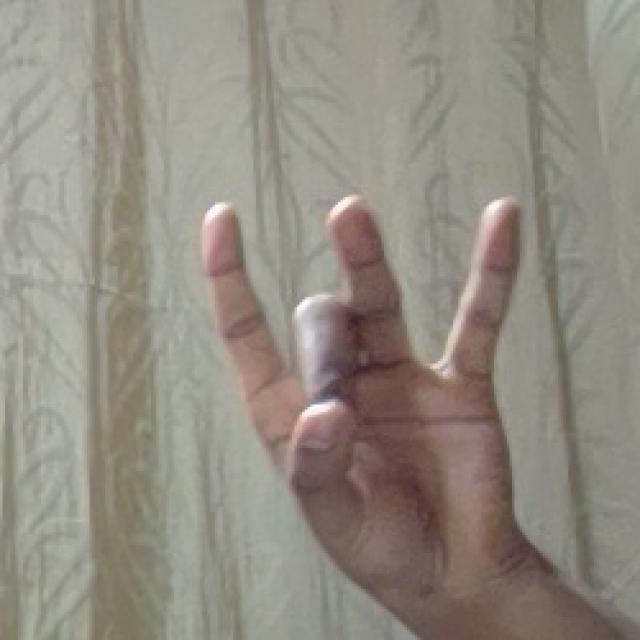Numeric-8: (198, 177, 517, 556)
